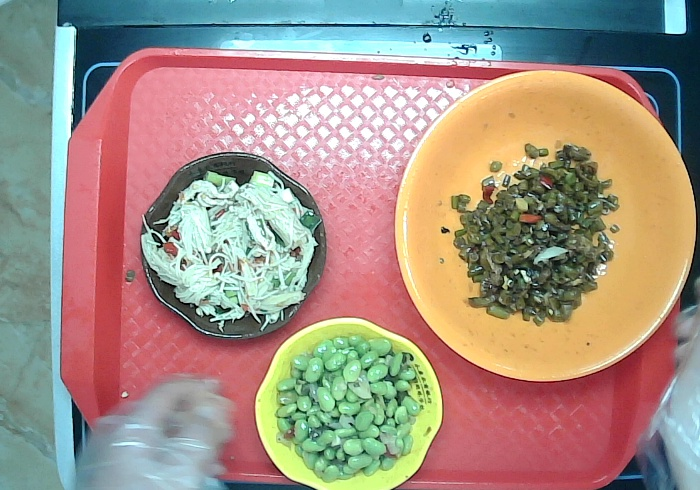YKMZ-Huang_Se_Ao_Bian_Wan: (252, 314, 446, 490)
YKMZ-Ju_Se_Tang_Wan: (392, 67, 700, 384)
YKMZ-Ka_Fei_Ao_Bian_Wan: (138, 150, 328, 342)
